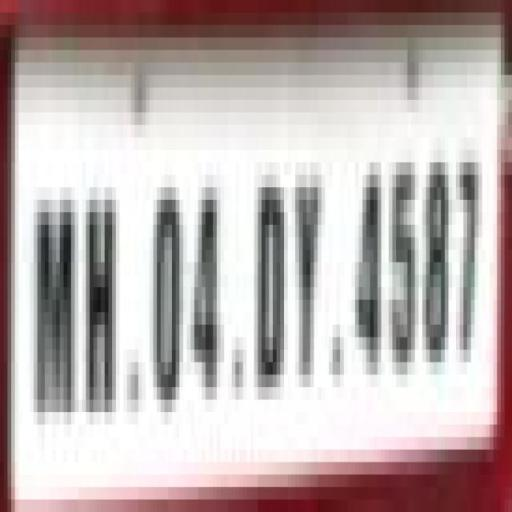number plate: (11, 37, 512, 500)
